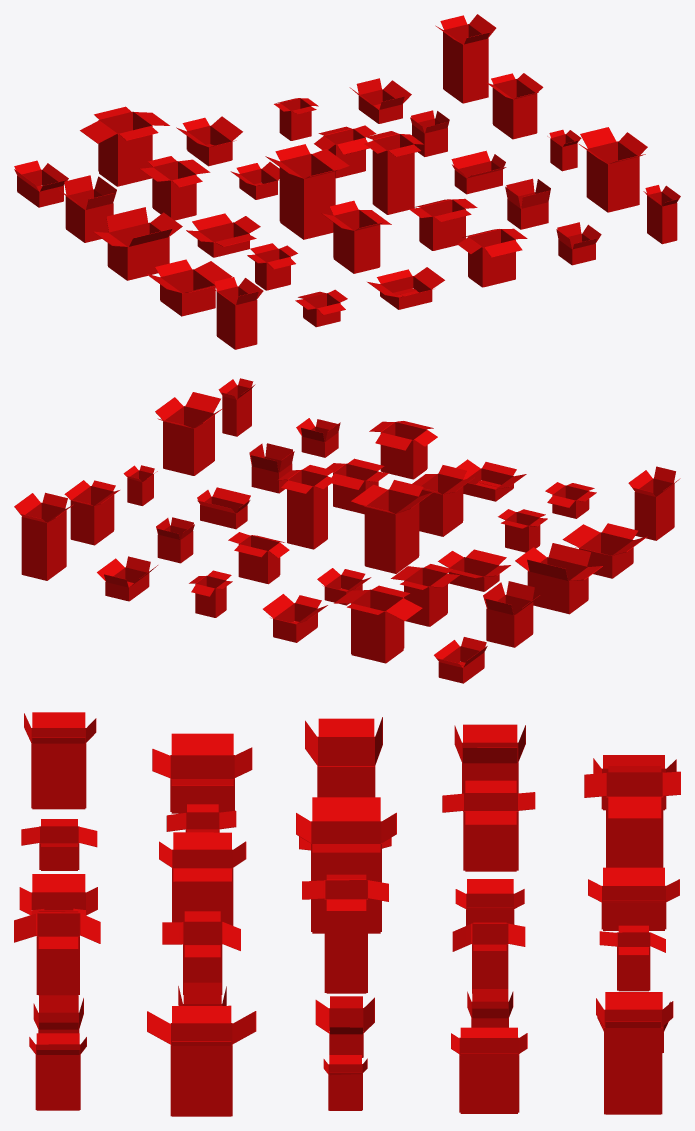
The model's file is boxes_grp.fbx.
3 views of the same model, one above another, from view 1: azimuth 30°, elevation 25°; view 2: azimuth 150°, elevation 25°; view 3: azimuth 270°, elevation 25° (orthographic). The views are drawn at different scales.
Visible parts, largest first — view 1: box_13, box_10, box_27, box_3, box_30, box_18, box_12, box_2, box_1, box_9, box_16, box_29 (+18 smaller); view 2: box_13, box_10, box_27, box_3, box_30, box_18, box_12, box_4, box_1, box_16, box_29, box_2 (+18 smaller); view 3: box_27, box_30, box_13, box_10, box_18, box_9, box_2, box_1, box_12, box_29, box_3, box_16 (+16 smaller).
Part boxes in pixels (x1,y1,x2,y2): box_13: (265,144,349,239); box_10: (80,106,169,186); box_27: (579,127,647,212); box_3: (93,207,182,280); box_30: (435,14,496,103); box_18: (364,131,423,214); box_12: (321,200,391,273); box_2: (146,259,232,316); box_1: (210,277,263,349); box_9: (140,156,210,220); box_16: (457,228,527,287); box_29: (487,73,543,139); box_13: (351,480,433,573); box_10: (334,585,422,663); box_27: (155,392,222,475); box_3: (515,543,602,614); box_30: (14,492,73,580); box_18: (278,465,336,549); box_12: (412,465,474,536); box_4: (483,581,539,647); box_1: (628,466,680,540); box_16: (369,421,437,479); box_29: (64,480,119,545); box_2: (562,523,647,578); box_27: (147,1005,256,1116); box_30: (596,994,673,1114); box_13: (296,797,396,933); box_10: (584,766,680,867); box_18: (302,874,388,993); box_9: (442,780,535,871); box_2: (152,733,252,813); box_1: (24,712,96,809); box_12: (159,832,246,925); box_29: (451,1027,527,1113); box_3: (305,717,382,797); box_16: (14,911,100,995).
Size of the model in its own units: 572 by 79.05 by 464.
